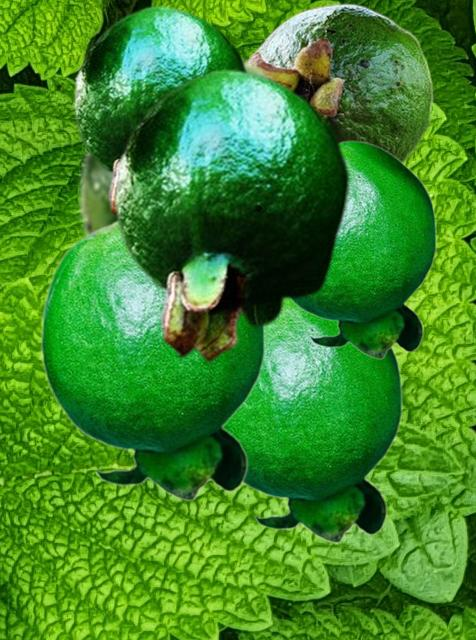guava: (114, 67, 350, 362), (39, 220, 265, 500), (225, 301, 402, 542), (71, 54, 285, 237), (73, 4, 249, 216), (291, 140, 436, 358), (247, 3, 433, 162)
